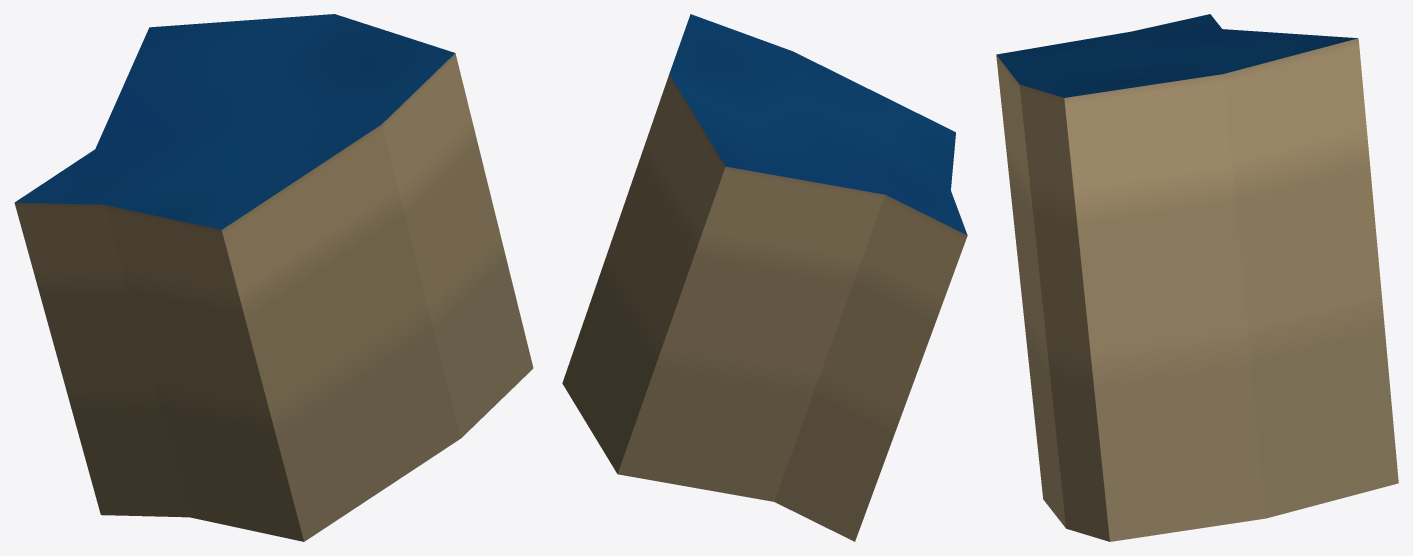
File: 0602_Solomon_Islands.glb
The picture shows the model from 3 angles, left to right: view 1: azimuth 30°, elevation 25°; view 2: azimuth 150°, elevation 25°; view 3: azimuth 270°, elevation 25°; orthographic projection. The views are drawn at different scales.
Visible parts, largest first — view 1: part_0; view 2: part_0; view 3: part_0.
Part boxes in pixels (x1,y1,x2,y2): part_0: (14, 14, 533, 541); part_0: (562, 14, 967, 541); part_0: (996, 14, 1398, 541).
Size of the model in its own units: 0.2669 by 0.2474 by 0.1783.
Materials: 1 (1 with a texture image).
